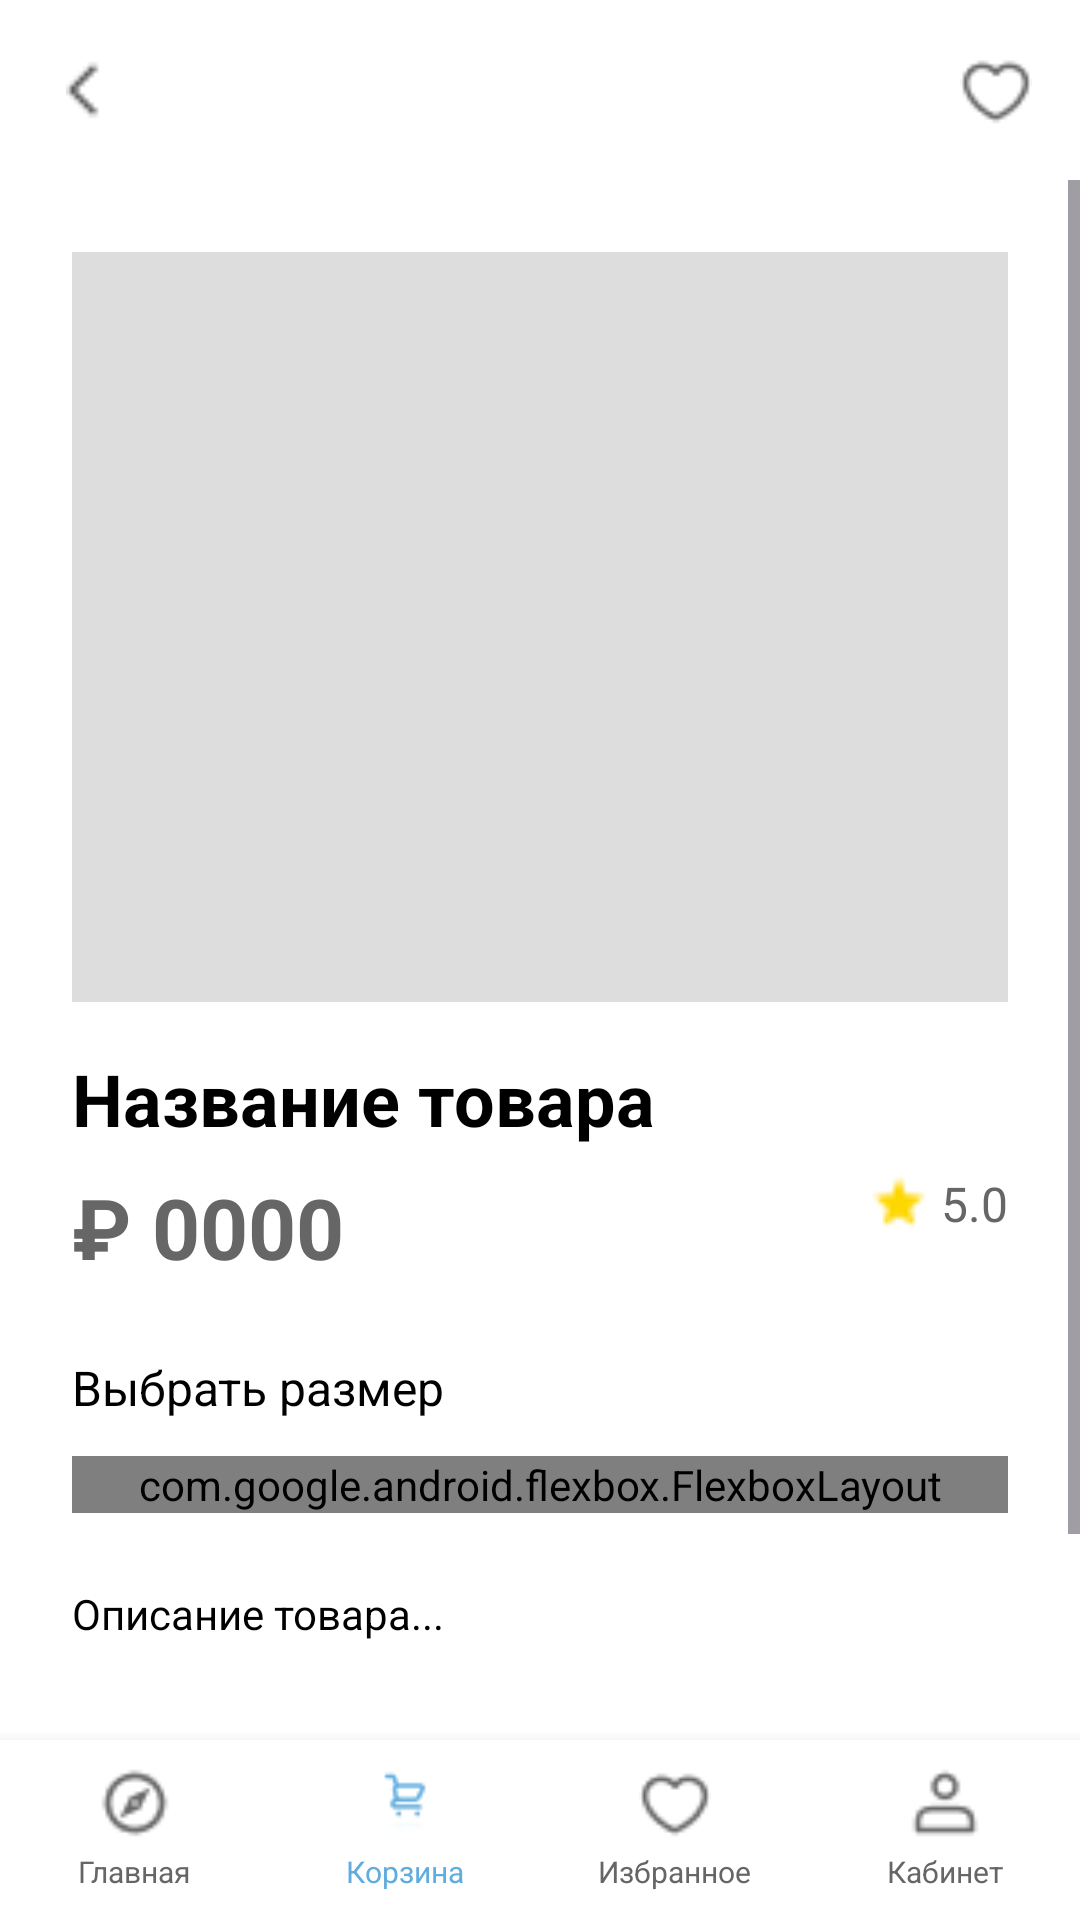

Icons on this 1080 x 1920 Android screen, each with the point to tap as (x=x, y=y):
back: (x=82, y=90)
cart: (x=405, y=1795)
heart: (x=996, y=91), (x=675, y=1804)
star: (x=899, y=1202)
